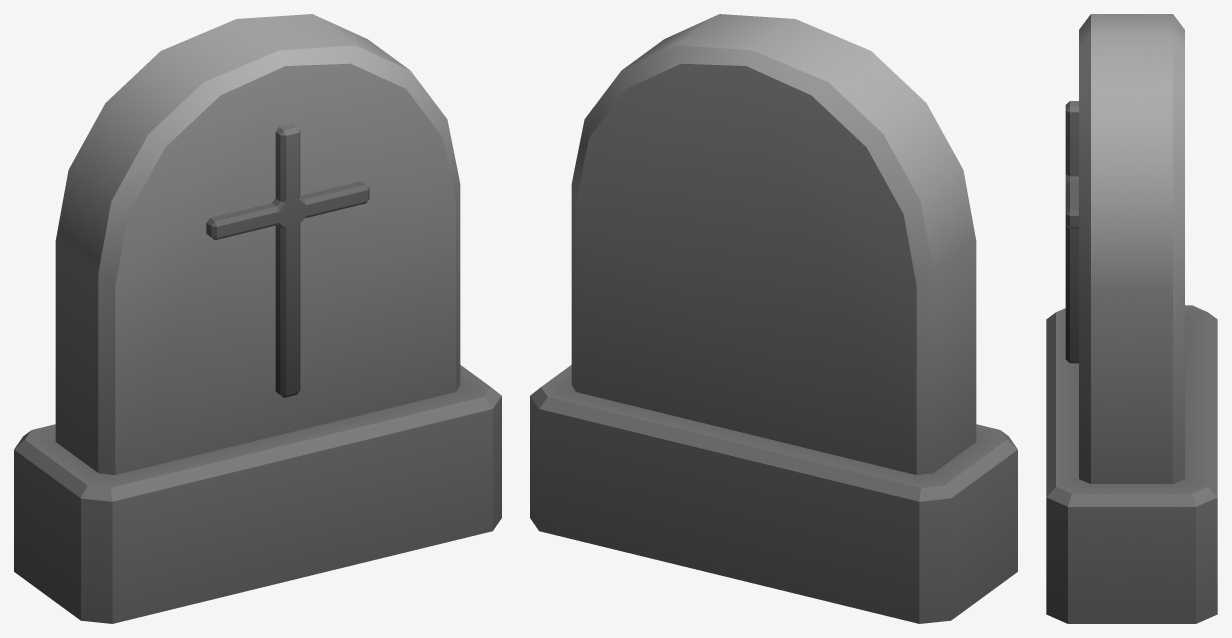
The model's file is Tombstone10.fbx.
3 views of the same model, side by side, from view 1: azimuth 30°, elevation 25°; view 2: azimuth 150°, elevation 25°; view 3: azimuth 270°, elevation 25° (orthographic). The views are drawn at different scales.
Visible parts, largest first — view 1: Tombstone10; view 2: Tombstone10; view 3: Tombstone10.
Boxes of the visible parts, left/top/right/bottom form: Tombstone10: left=14, top=14, right=501, bottom=623; Tombstone10: left=530, top=14, right=1017, bottom=623; Tombstone10: left=1046, top=14, right=1217, bottom=623.
Size of the model in its own units: 1.16 by 1.35 by 0.4277.
Materials: 1 (1 with a texture image).
